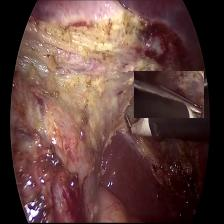Grasper: (134, 72, 204, 118)
Hook: (119, 110, 161, 150)
